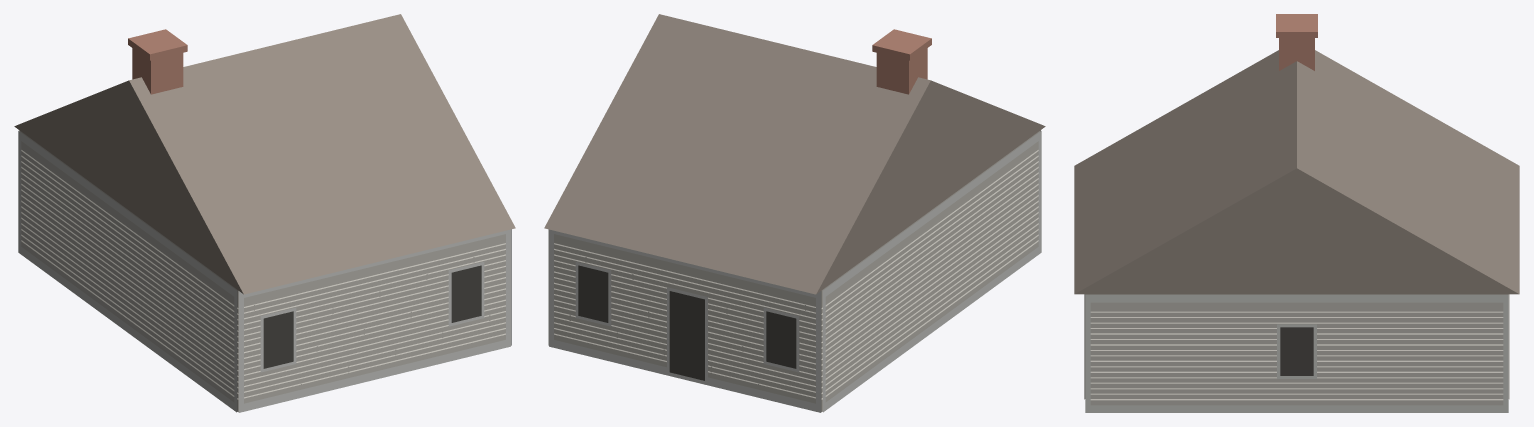
Rendered from recon_1835_north_d5_037__inferred_1835.glb.
3 renders of one model, left to right at view 1: azimuth 30°, elevation 25°; view 2: azimuth 150°, elevation 25°; view 3: azimuth 270°, elevation 25°, orthographic. The views are drawn at different scales.
Visible parts, largest first — view 1: recon_1835_north_d5_037__inferred_1835; view 2: recon_1835_north_d5_037__inferred_1835; view 3: recon_1835_north_d5_037__inferred_1835.
Boxes of the visible parts, left/top/right/bottom form: recon_1835_north_d5_037__inferred_1835: left=14, top=14, right=515, bottom=412; recon_1835_north_d5_037__inferred_1835: left=544, top=14, right=1045, bottom=412; recon_1835_north_d5_037__inferred_1835: left=1074, top=14, right=1519, bottom=412.
Bounding box in the file's own units: 7.13 × 7.03 × 10.32.
